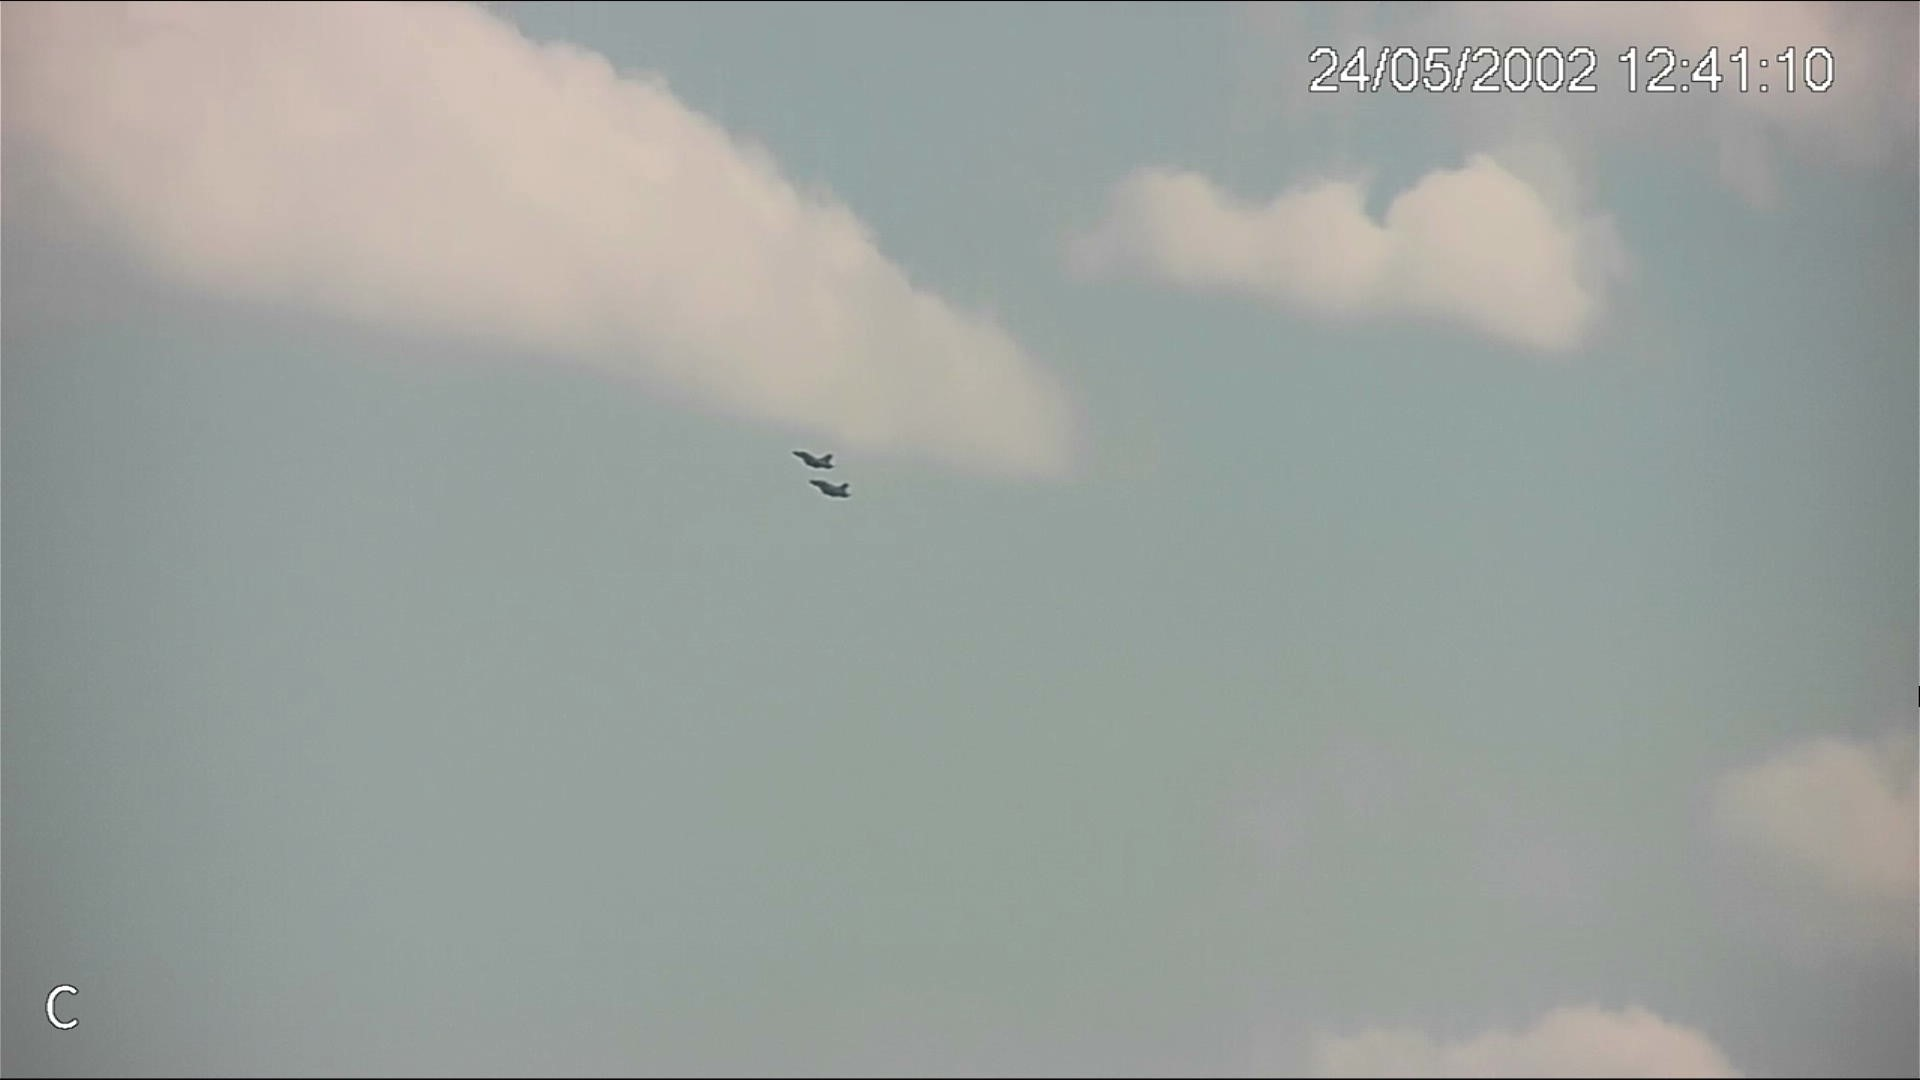SU_30: (808, 477, 853, 501), (793, 450, 836, 469)
